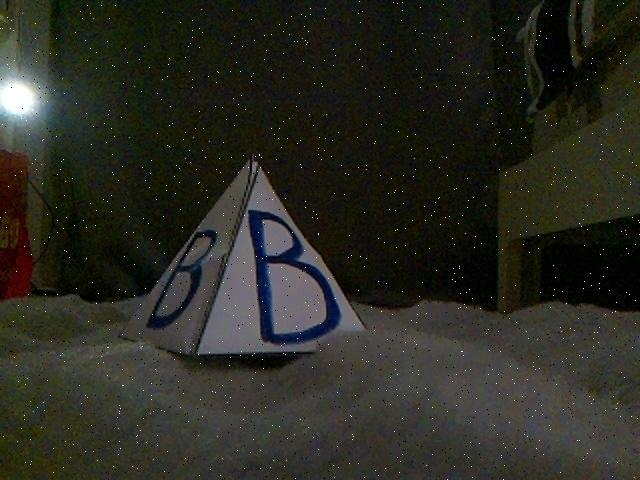B: (123, 156, 382, 362)
